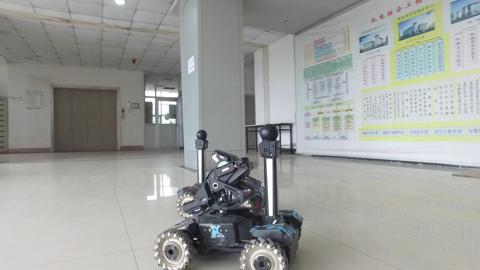chariot: (155, 123, 303, 270), (174, 127, 272, 217)
